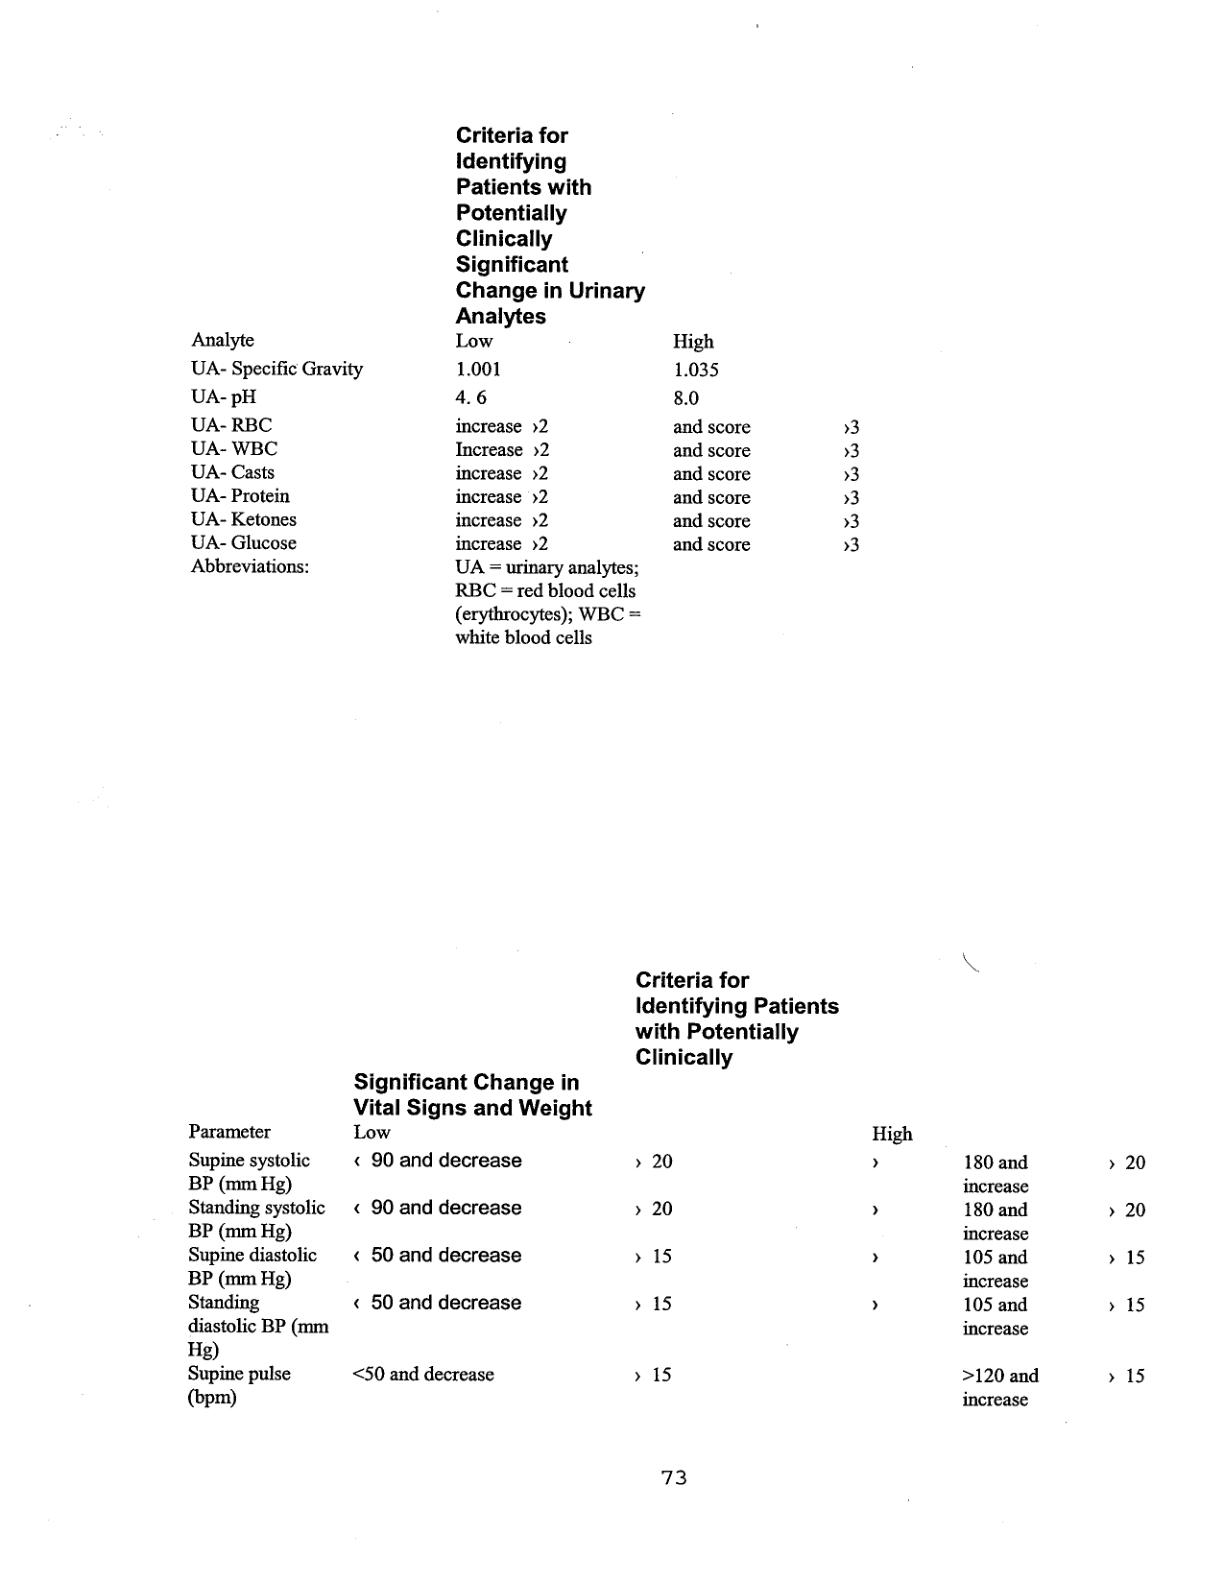nolines: (182, 966, 1150, 1418), (188, 119, 864, 654)
